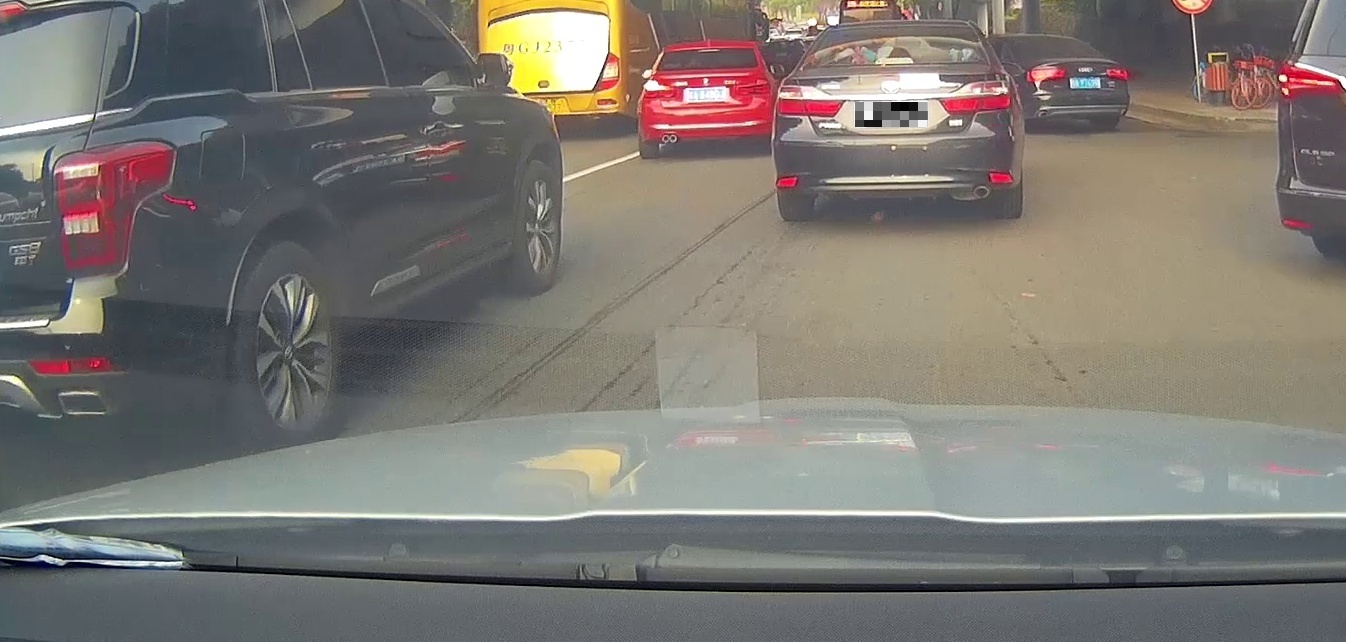L_light: (777, 85, 844, 117)
R_light: (938, 80, 1010, 113)
T_light: (885, 27, 914, 30)
day-no: (771, 21, 1025, 221)
plate_1: (855, 102, 928, 127)
